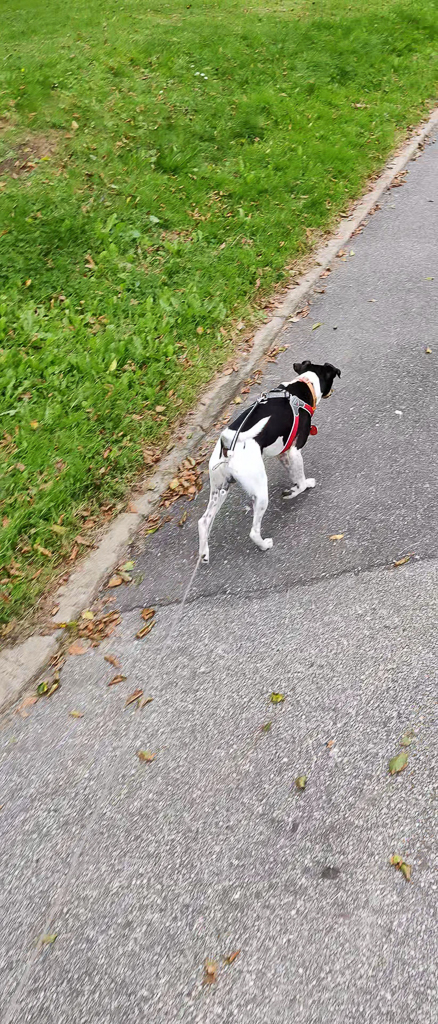Dog: (189, 351, 353, 578)
